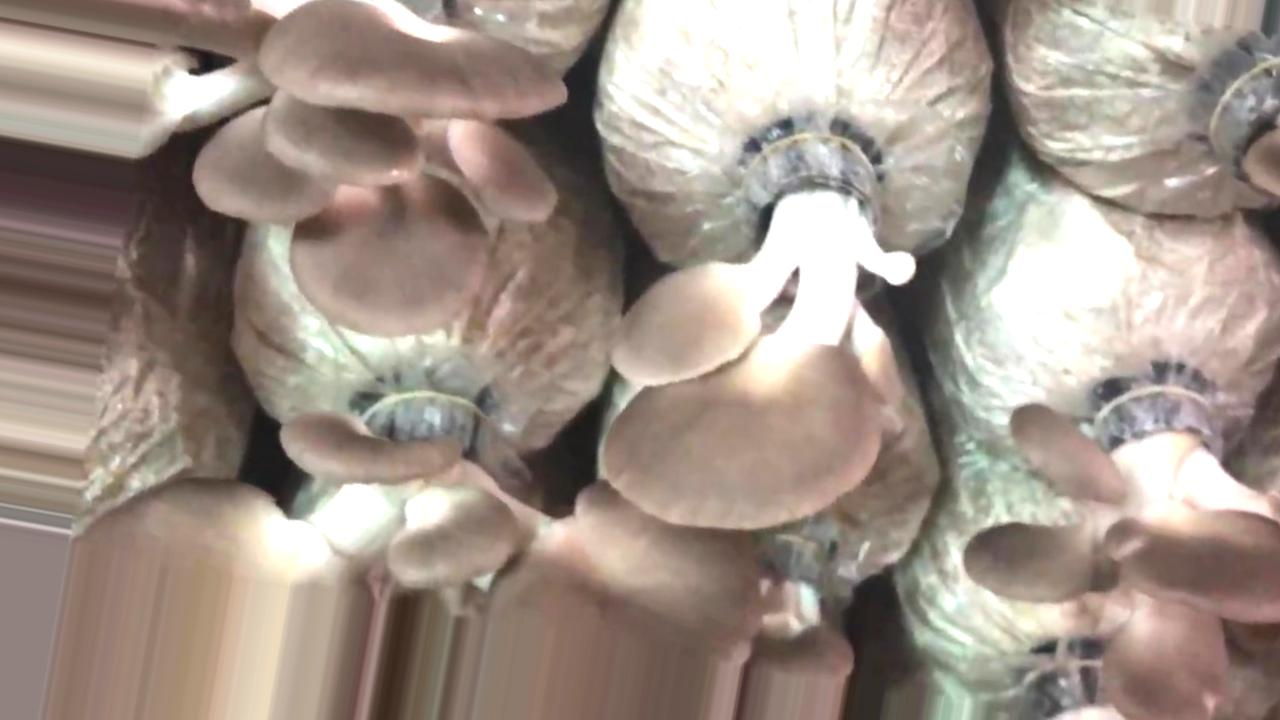nam: (43, 393, 857, 720), (603, 125, 924, 531), (189, 1, 566, 341), (963, 395, 1280, 718)
